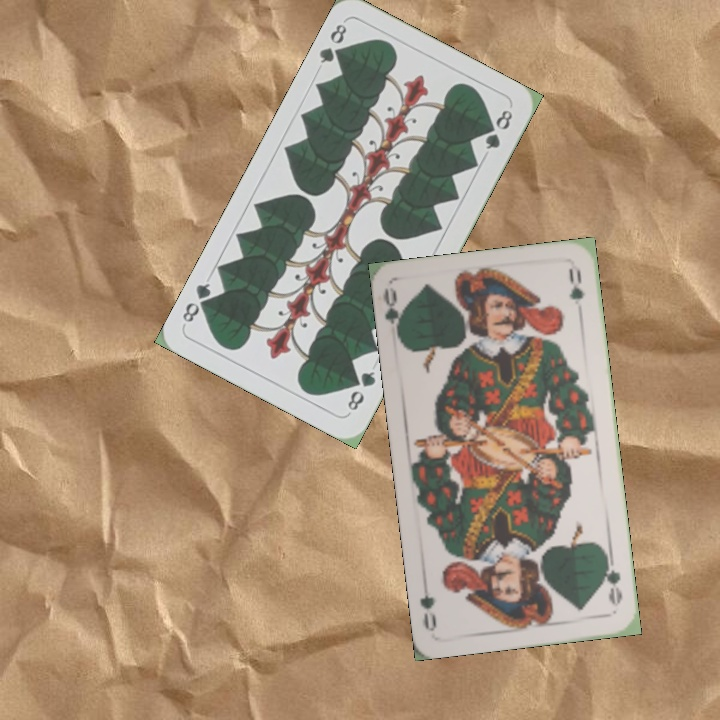G8: (343, 367, 379, 415), (315, 20, 350, 66)
GO: (379, 285, 407, 344), (599, 551, 625, 609)
